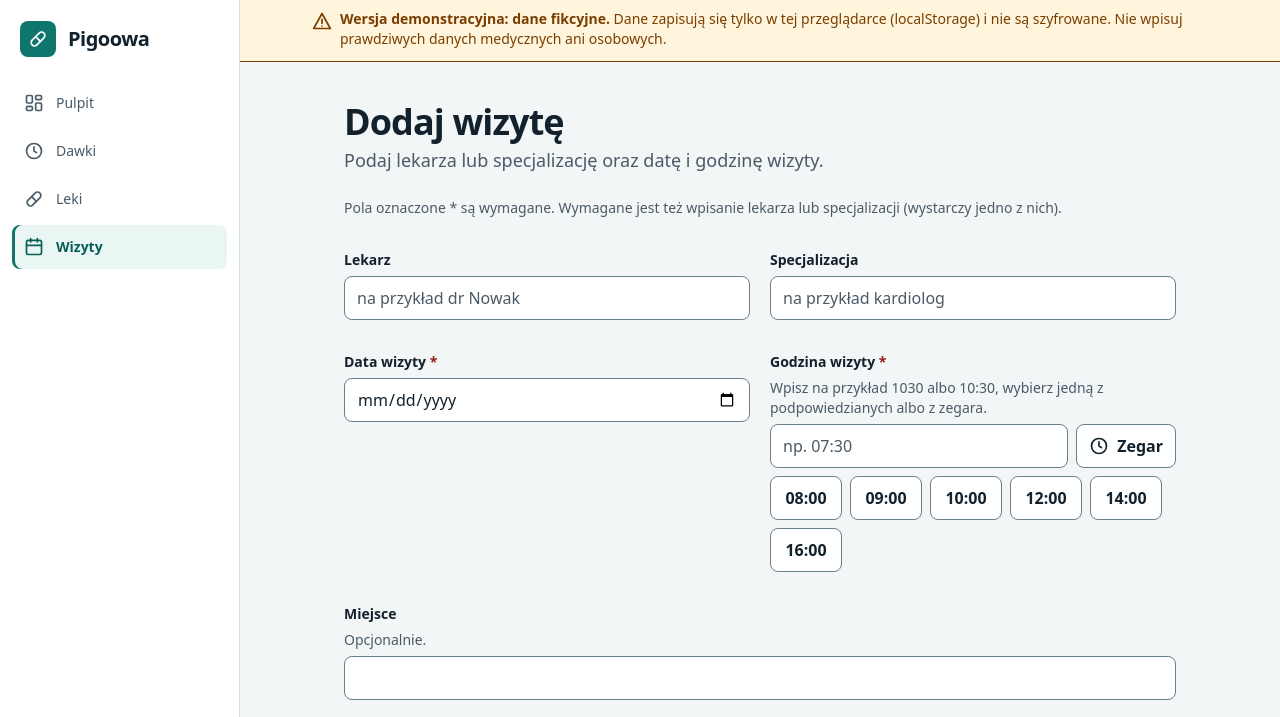
Test: add appointment: saving › saves one scheduled appointment, tells the user, and lists it under Upcoming
Type "dr Nowak" into the field labelled "Lekarz" at (547, 298), box [344,276,750,320]
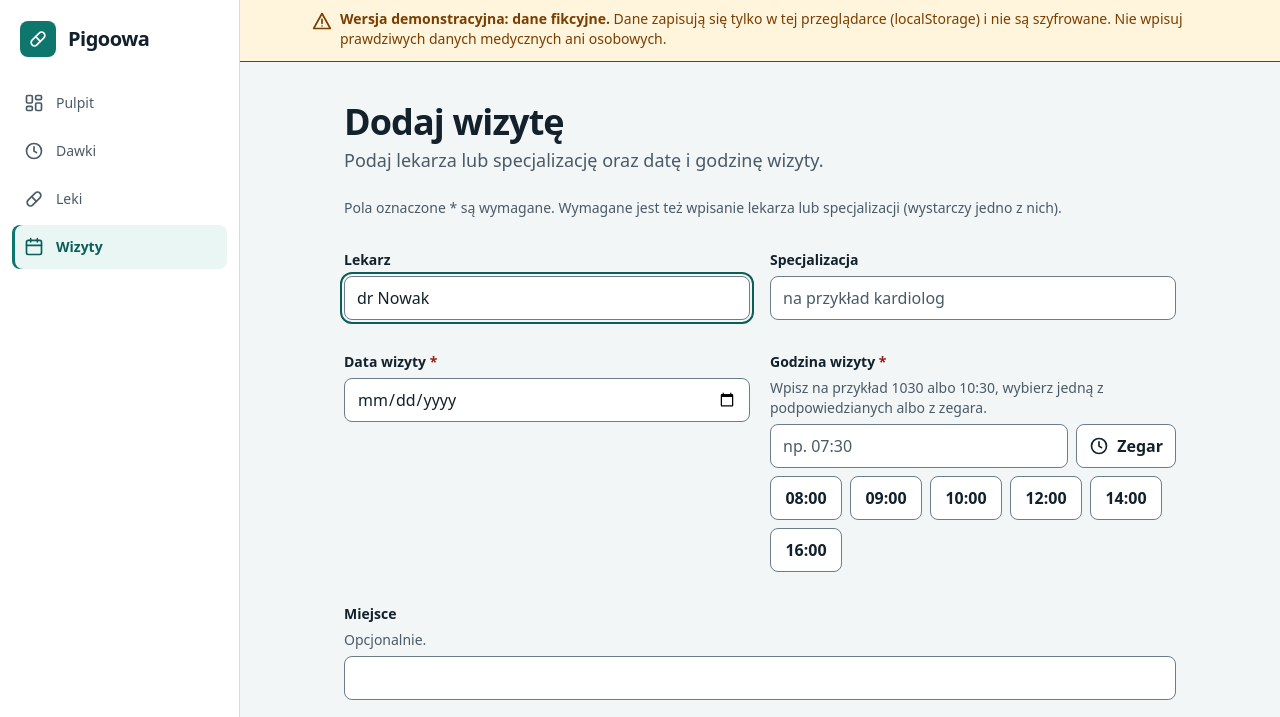
Type "2026-10-20" into the date field labelled "Data wizyty *" at (547, 400), box [344,378,750,422]
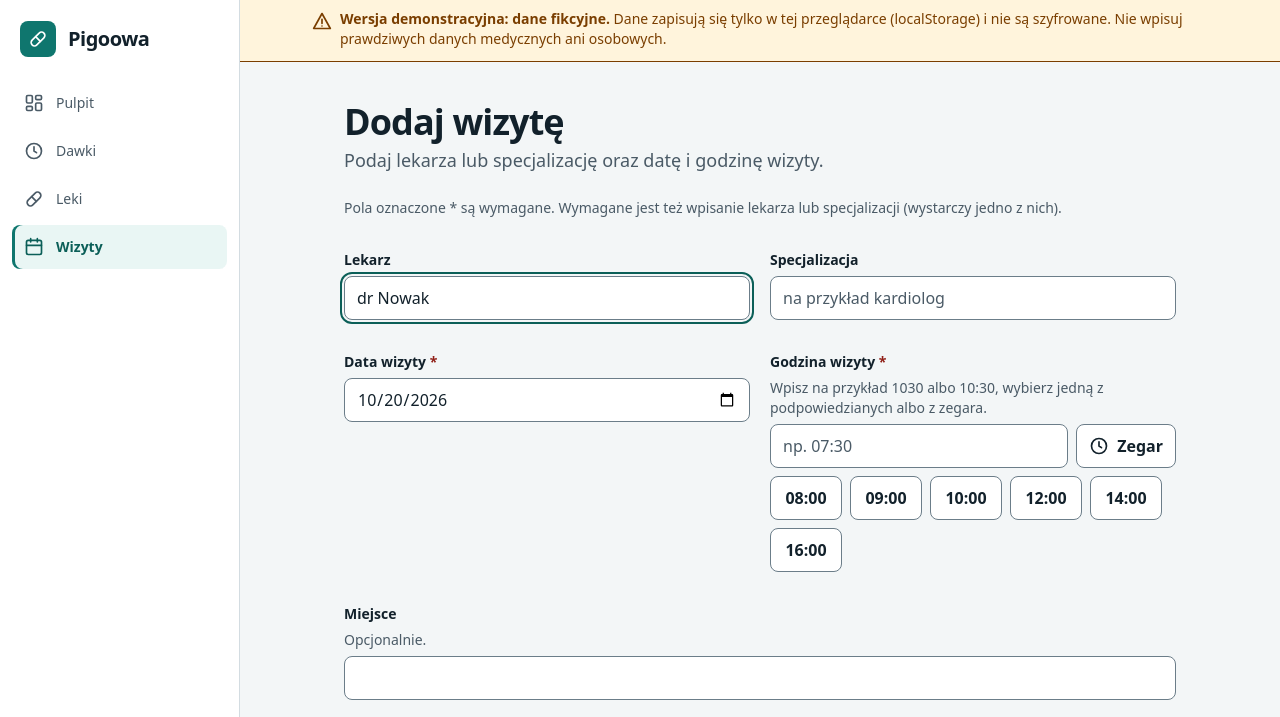
Type "10:00" into the field labelled "Godzina wizyty *" at (919, 446), box [770,424,1068,468]
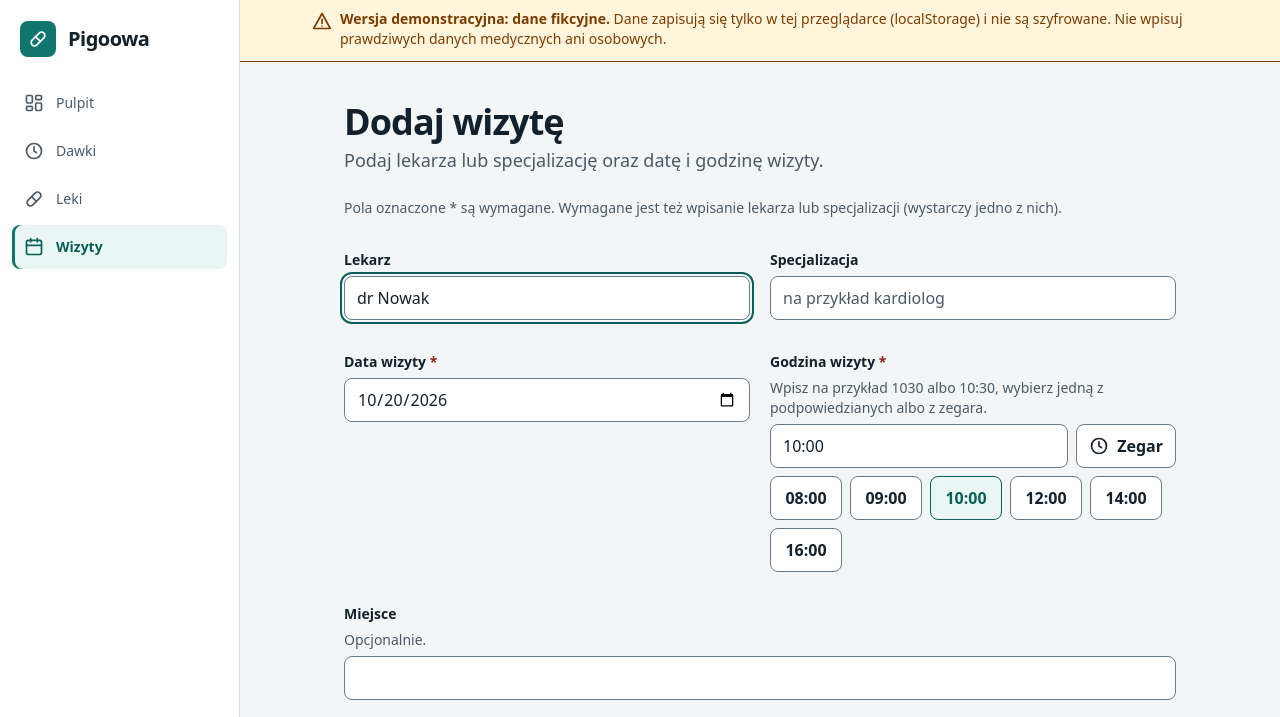
Type "  Kardiolog " into the field labelled "Specjalizacja" at (973, 298), box [770,276,1176,320]
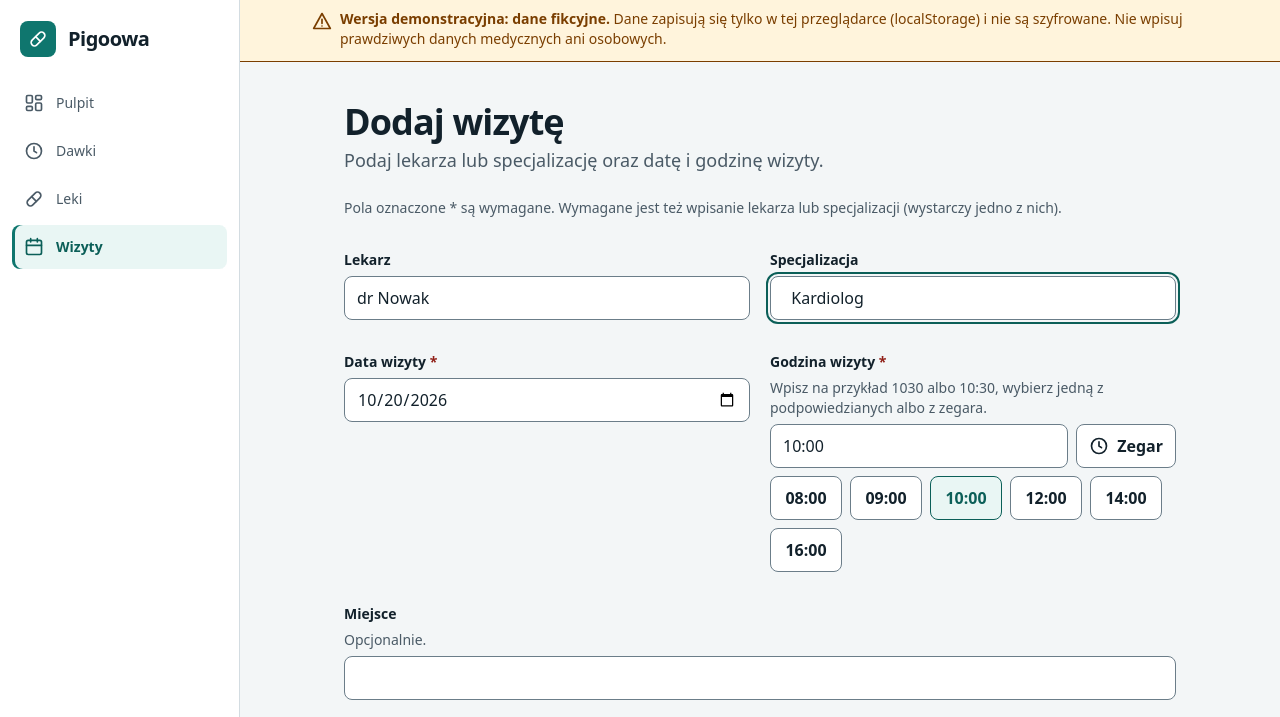
Type "Gabinet 5" into the field labelled "Miejsce" at (760, 678), box [344,656,1176,700]
(page scrolled)
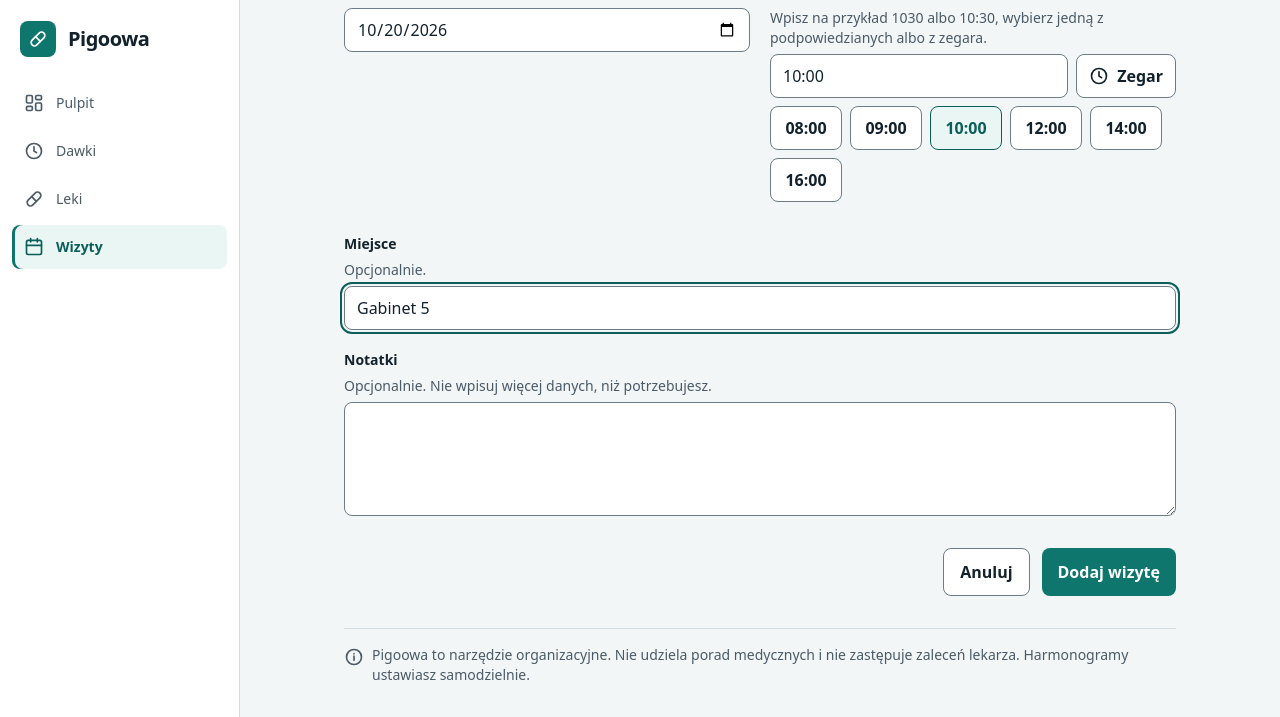
Click the button "Dodaj wizytę" at (1109, 572), box [1042,548,1176,596]
(page scrolled)
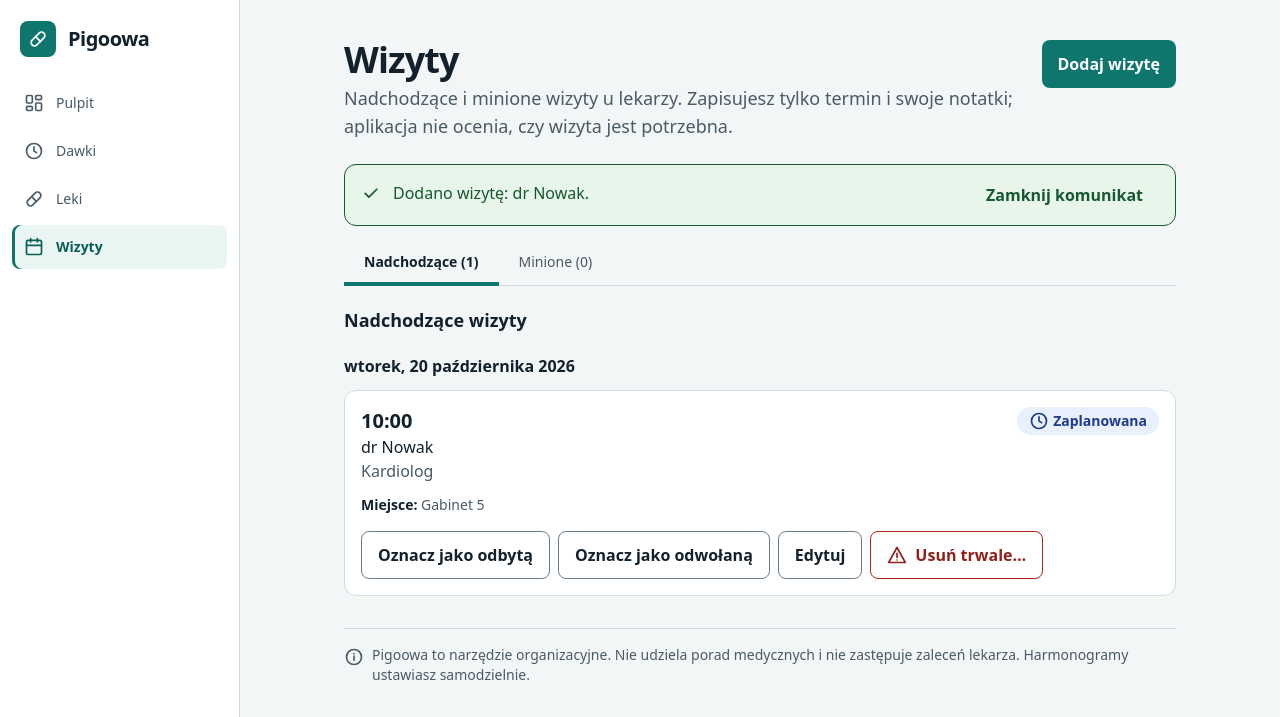
Result: the text "Dodano wizytę: dr Nowak." is shown at [393,182,589,204]
Result: the tab "Nadchodzące (1)" is shown at [344,242,498,286]
